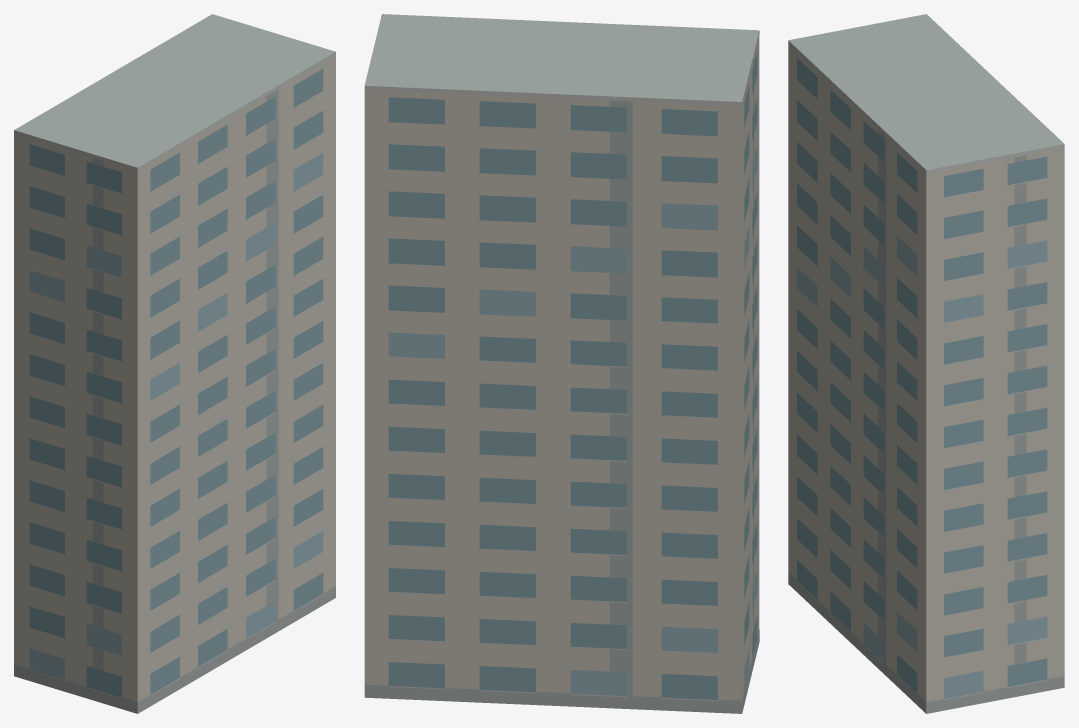
Rendered from residential-4666f989-979c-4e47-b28e-69c1aef285b1.glb.
3 renders of one model, left to right at view 1: azimuth 30°, elevation 25°; view 2: azimuth 150°, elevation 25°; view 3: azimuth 270°, elevation 25°, orthographic. The views are drawn at different scales.
Visible parts, largest first — view 1: residential-4666f989-979c-4e47-b28e-69c1aef285b1.tmp; view 2: residential-4666f989-979c-4e47-b28e-69c1aef285b1.tmp; view 3: residential-4666f989-979c-4e47-b28e-69c1aef285b1.tmp.
Part boxes in pixels (left/top/right/bottom): residential-4666f989-979c-4e47-b28e-69c1aef285b1.tmp: left=14, top=14, right=335, bottom=713; residential-4666f989-979c-4e47-b28e-69c1aef285b1.tmp: left=364, top=14, right=759, bottom=713; residential-4666f989-979c-4e47-b28e-69c1aef285b1.tmp: left=788, top=14, right=1064, bottom=713.
Size of the model in its own units: 21.58 by 35 by 16.14.
